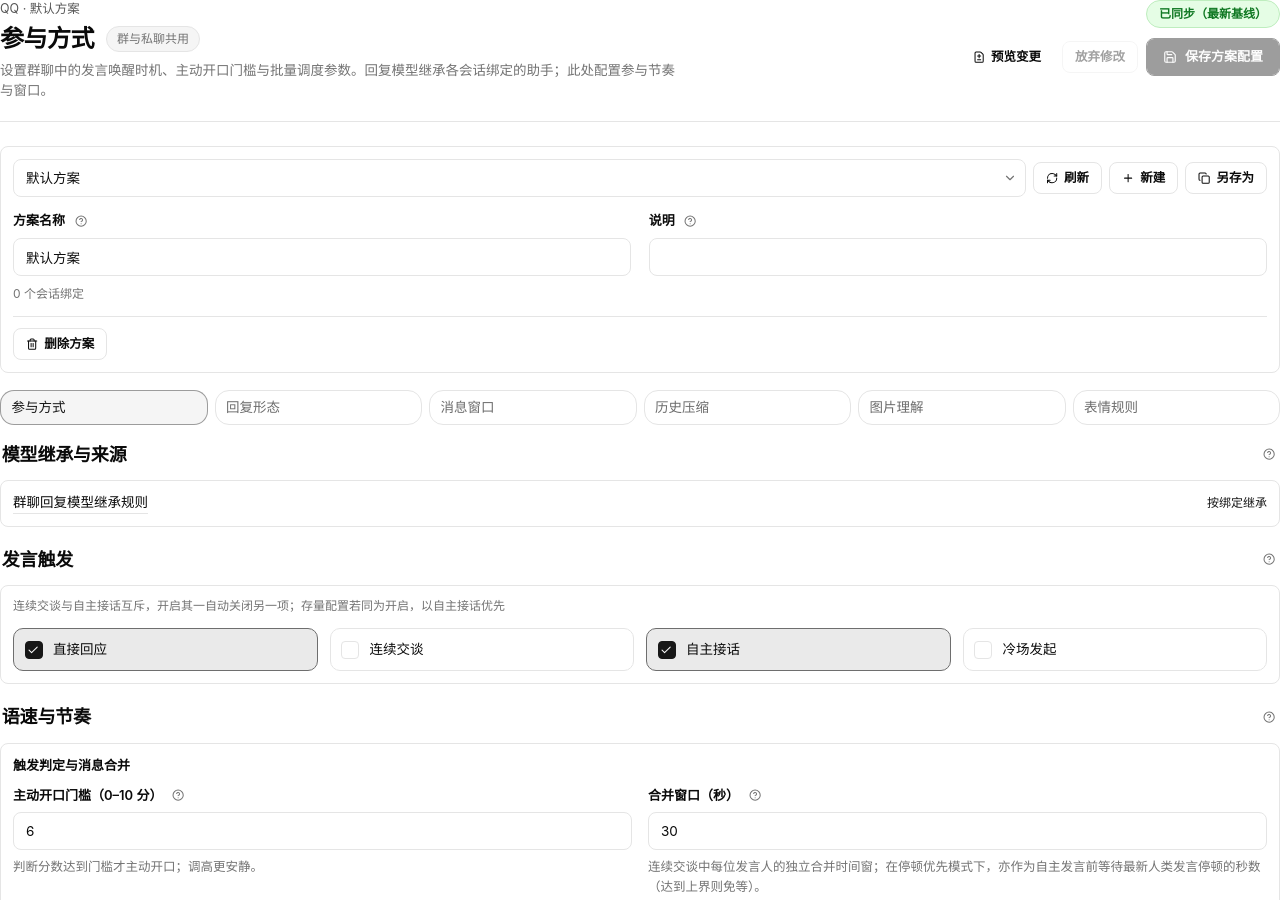
Scenario: Scheme change preview usability › shows collection names for ids and keeps ids it cannot resolve
Click the tab with aria-label "表情发送": (1176, 408) [1072, 390, 1279, 425]
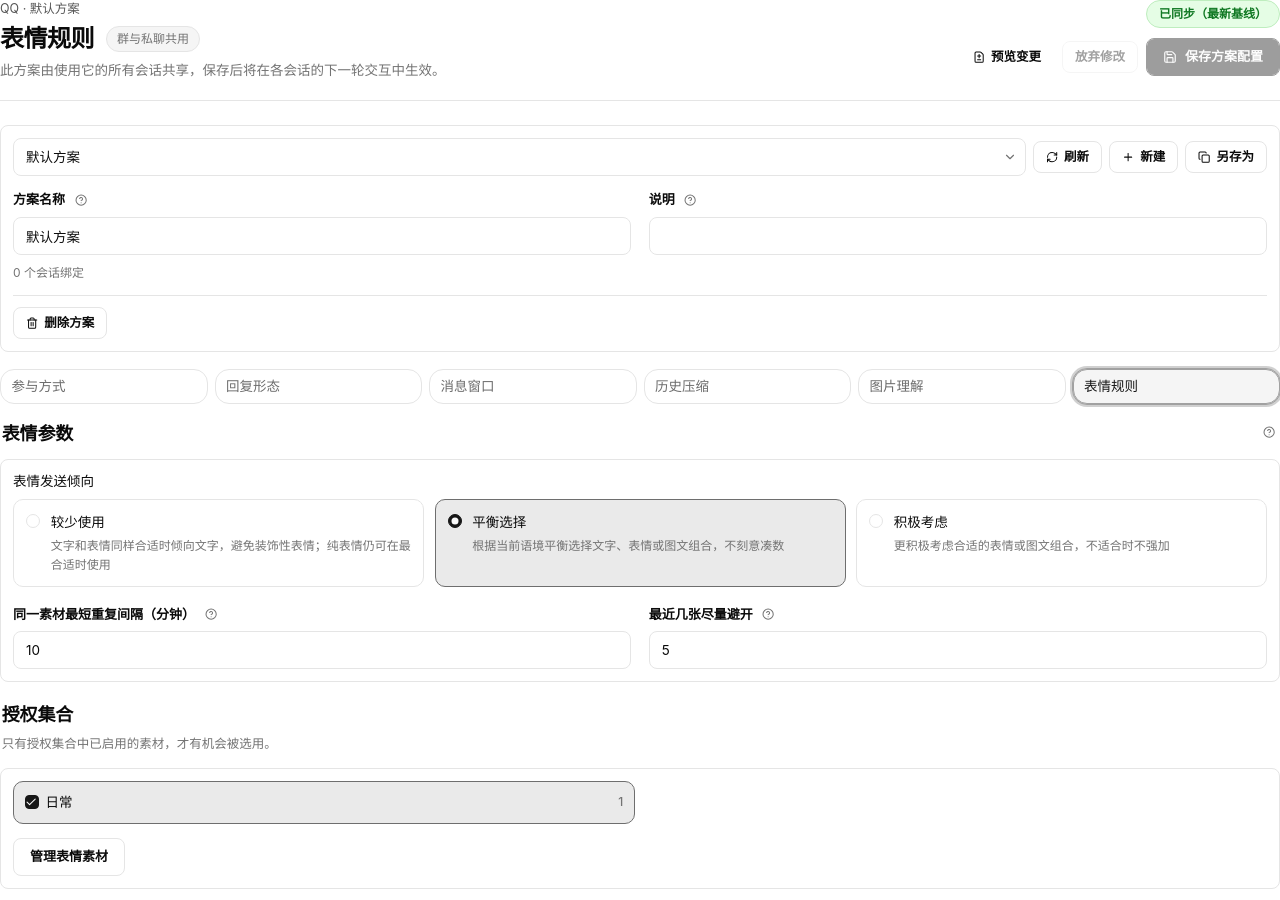
Click the checkbox named "日常": (32, 802) [24, 795, 38, 809]
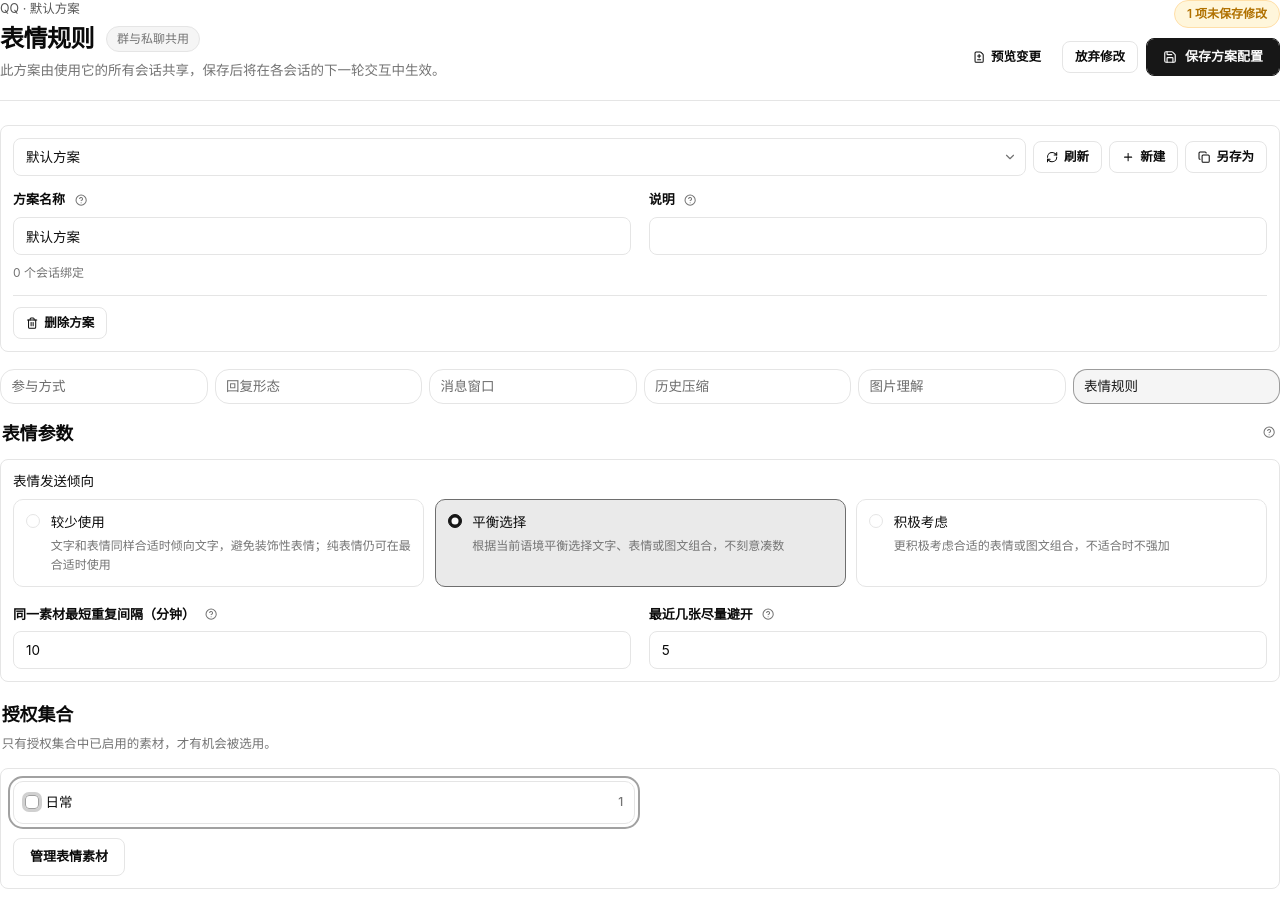
Click the button "预览变更": (1007, 57) [960, 41, 1054, 73]
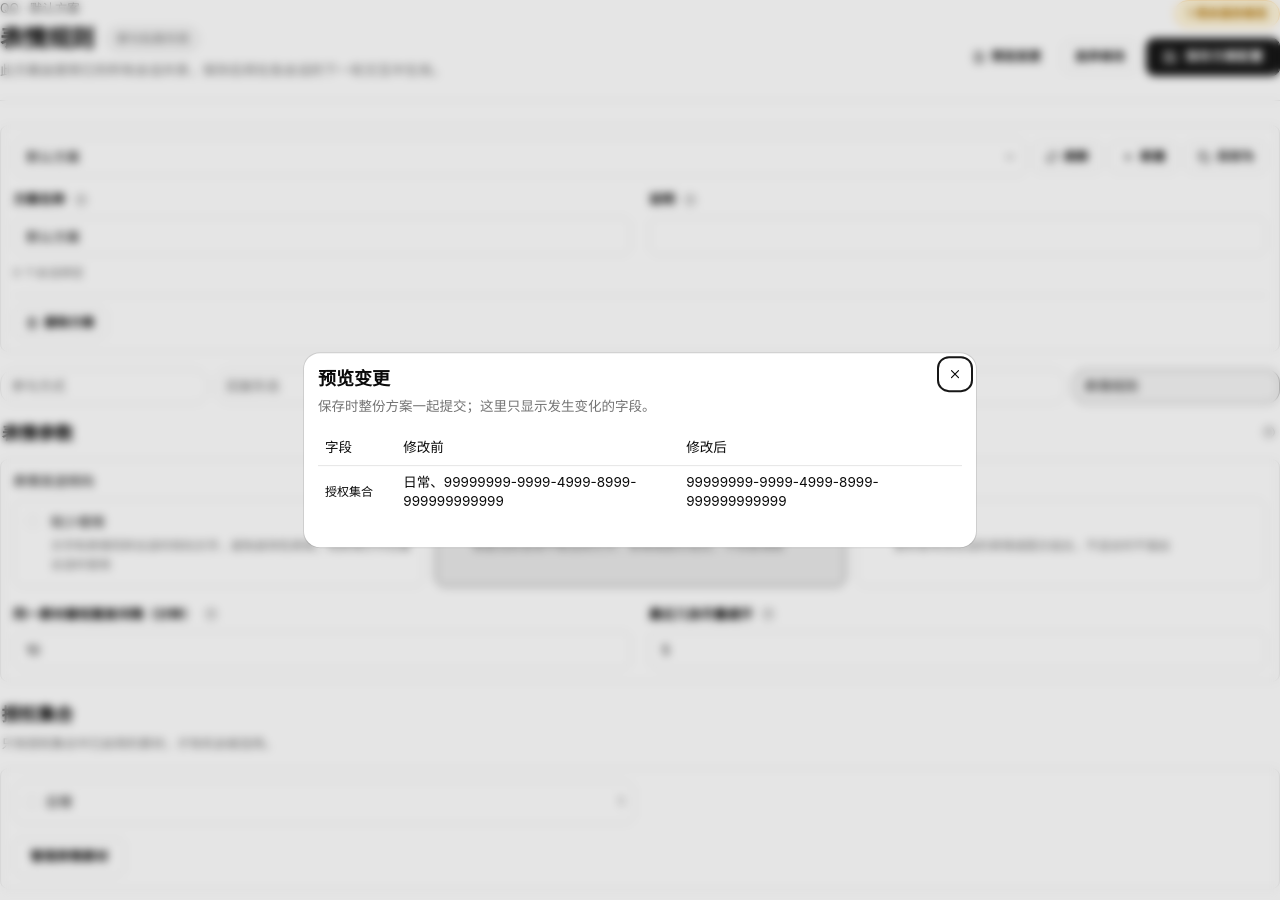
Result: the text "99999999-9999-4999-8999-999999999999" is shown at [679, 466, 962, 519]
